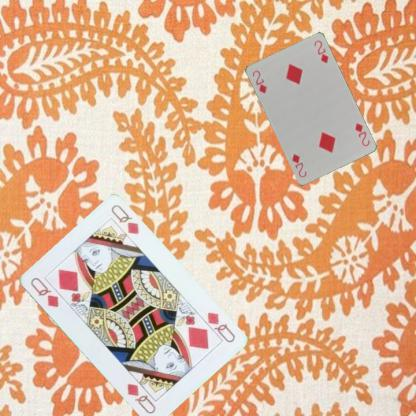2d: (352, 121, 371, 148), (249, 68, 268, 94)
Qd: (196, 309, 236, 344), (27, 275, 60, 309)
